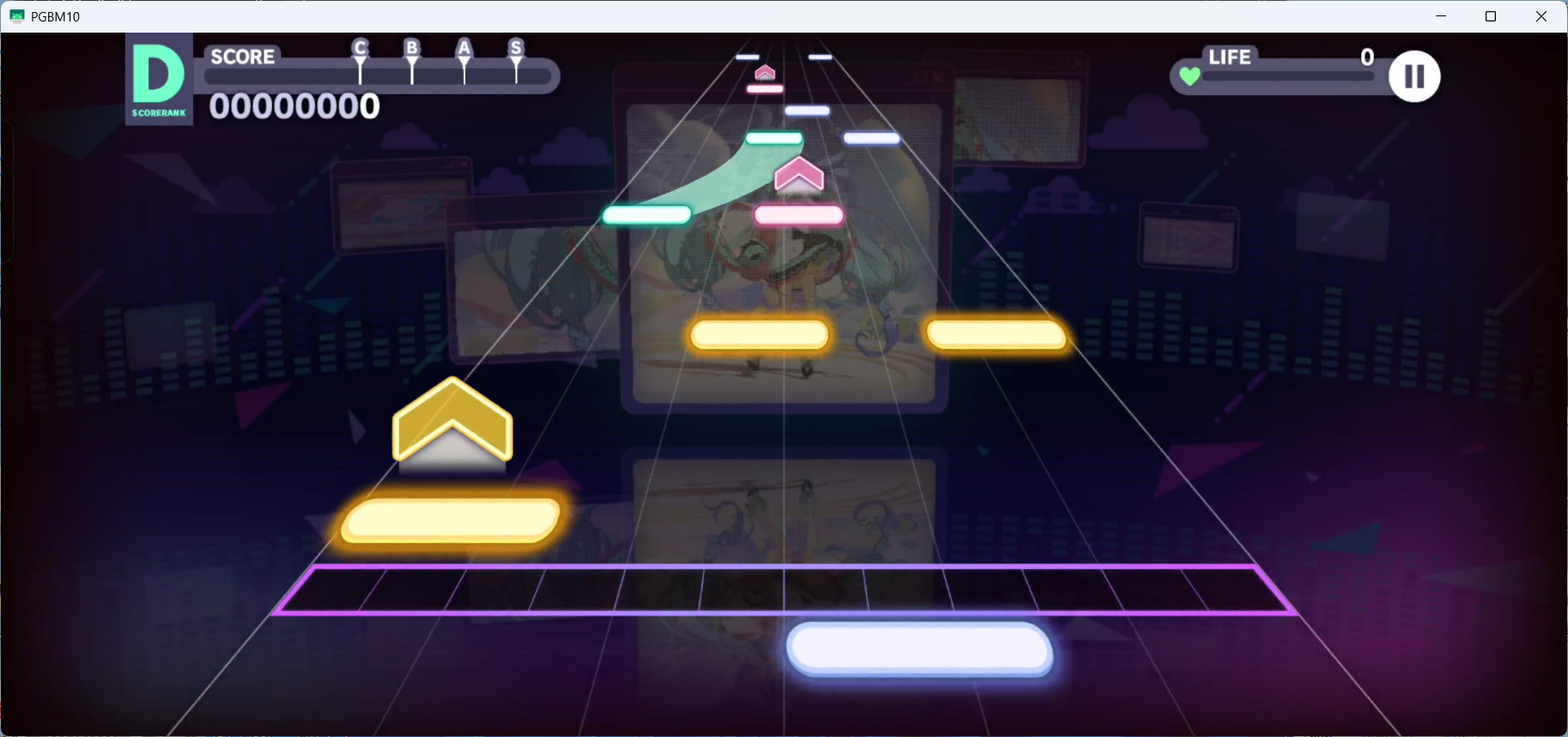flick: (391, 375, 514, 474), (775, 156, 824, 196), (755, 64, 775, 81)
tap: (785, 619, 1053, 679), (339, 497, 560, 543), (689, 317, 828, 353), (927, 317, 1066, 351), (755, 206, 843, 226), (603, 206, 691, 225), (843, 132, 900, 145), (745, 133, 803, 145), (785, 105, 830, 116), (747, 83, 783, 93), (808, 54, 833, 59), (736, 54, 759, 59)
